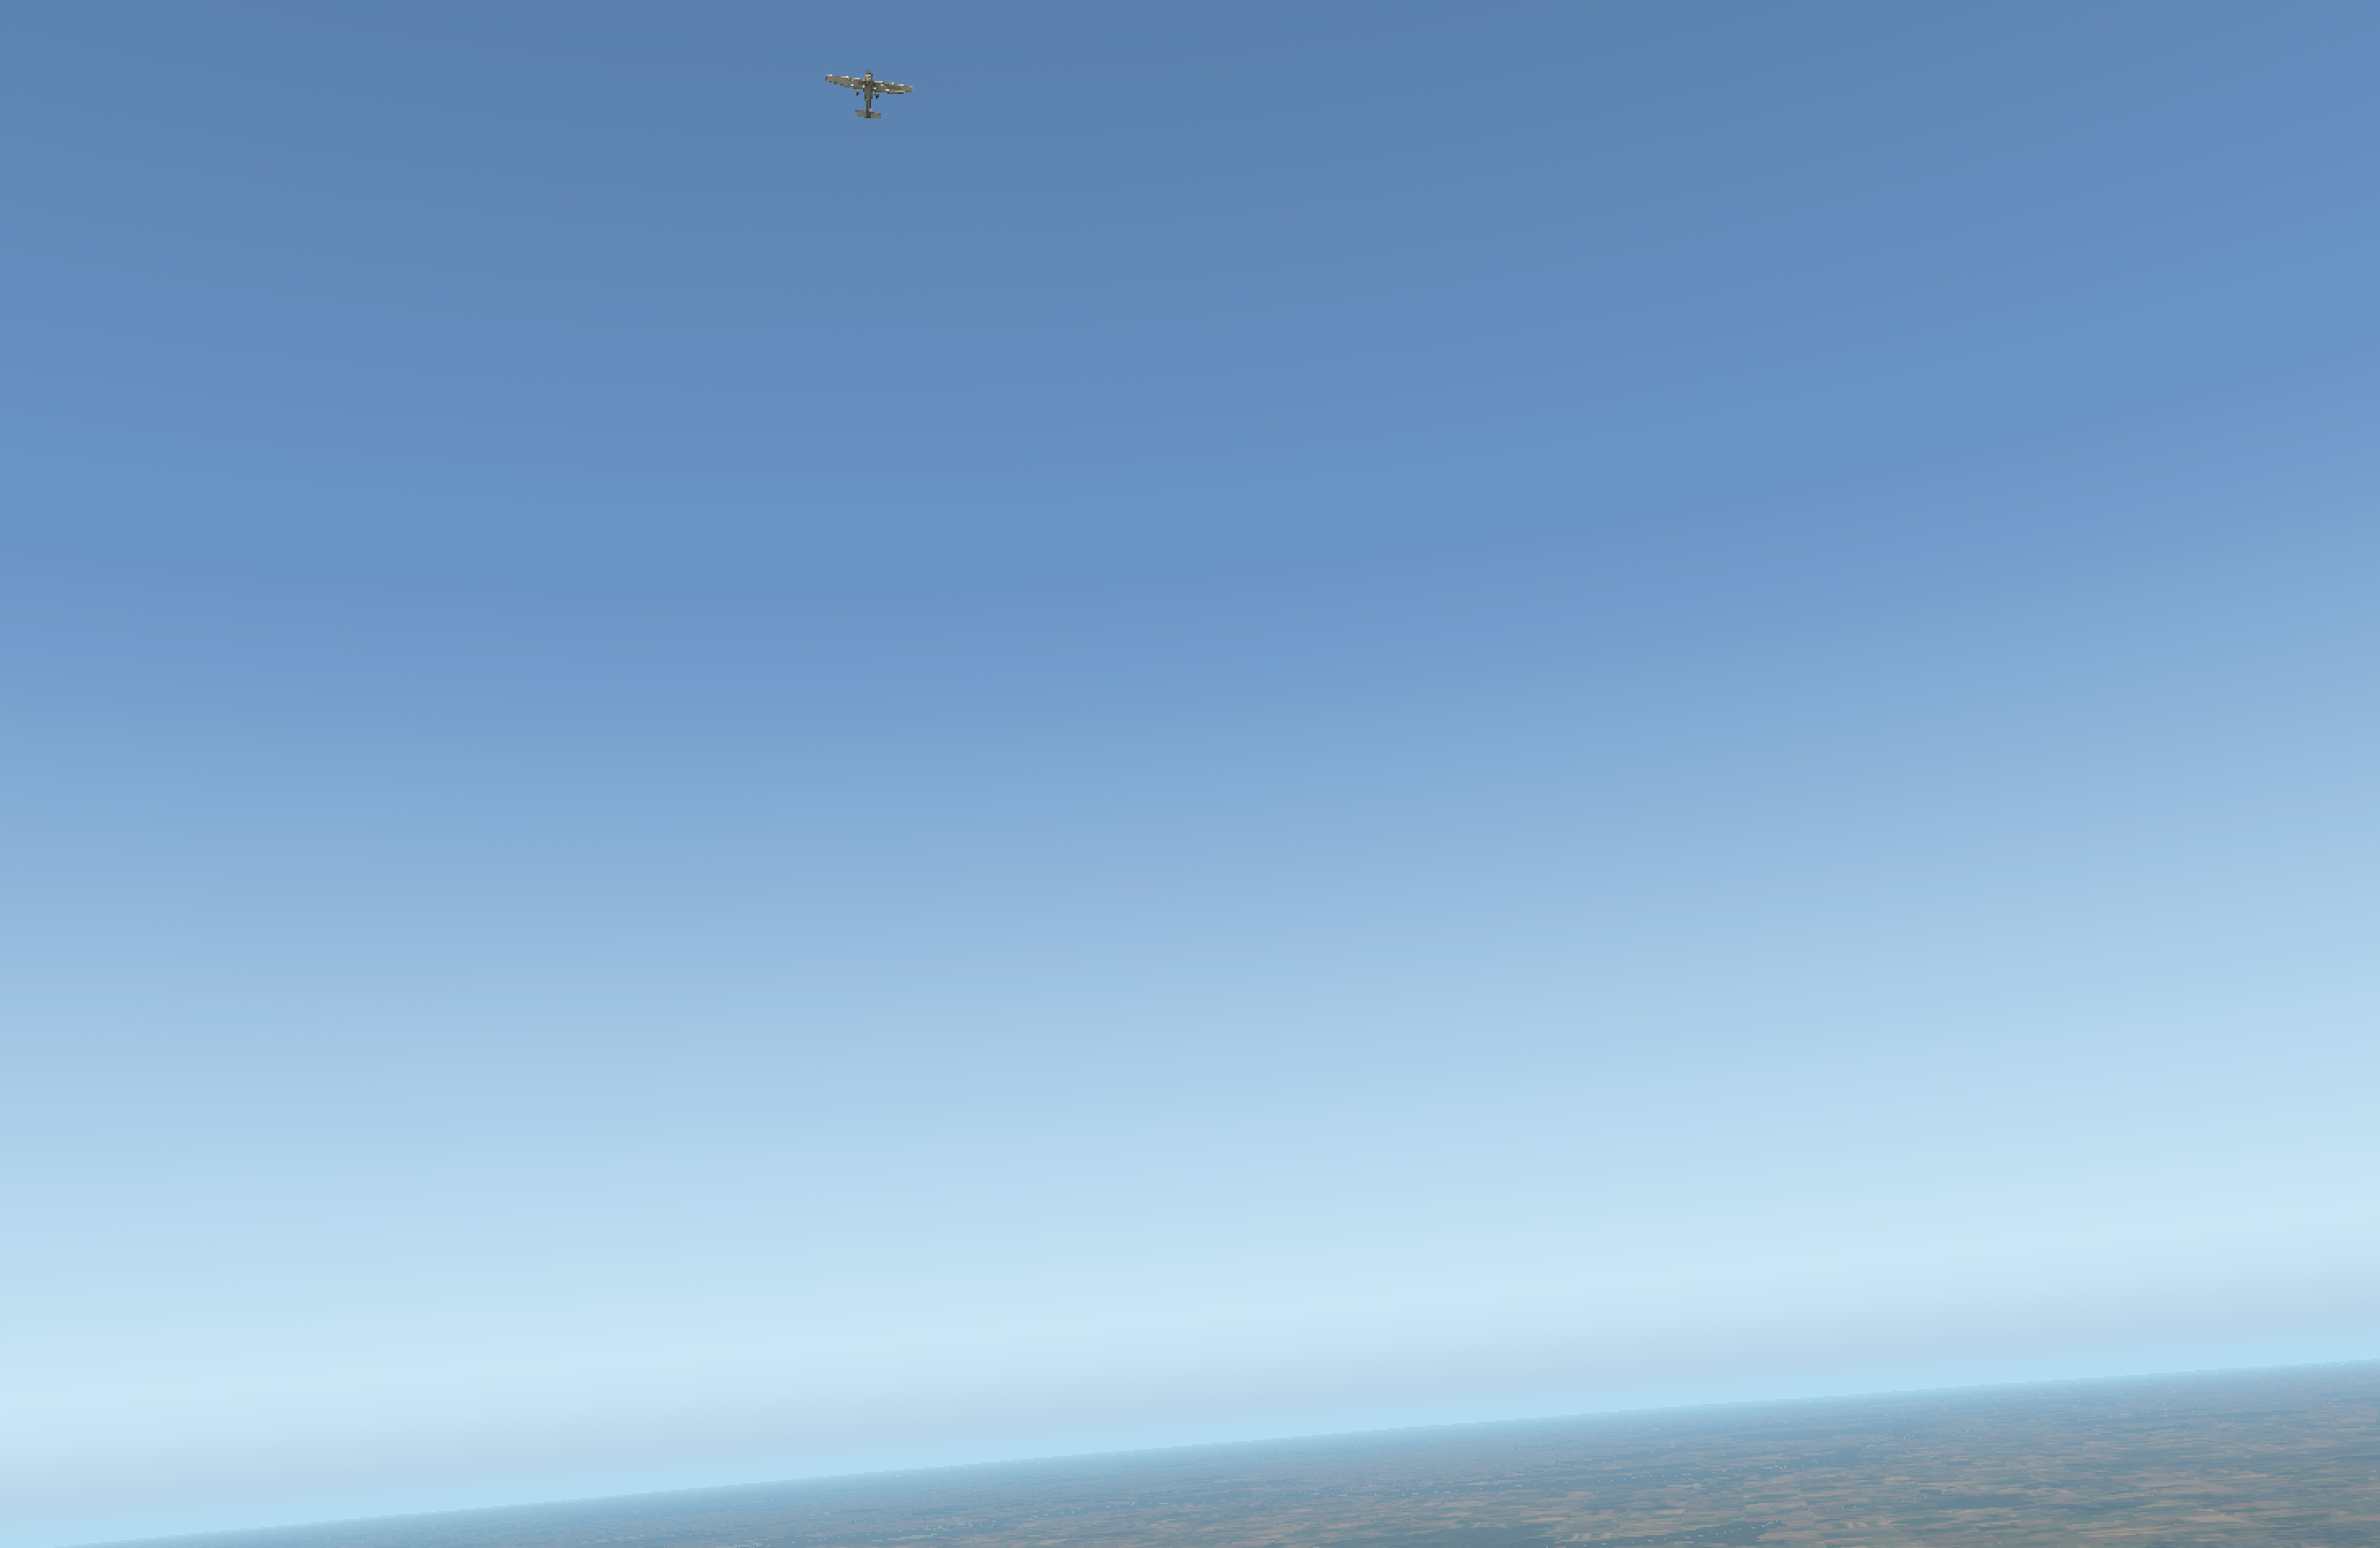aircraft: (840, 75, 897, 97)
